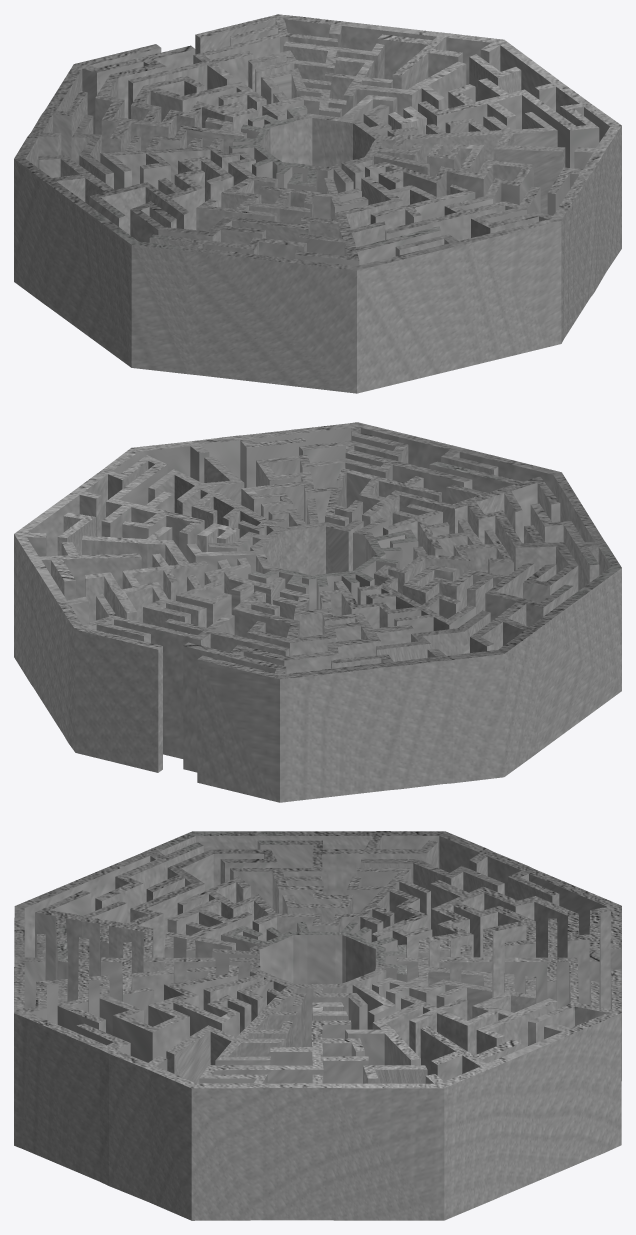
File: Labyrinth2.fbx
3 views of the same model, one above another, from view 1: azimuth 30°, elevation 25°; view 2: azimuth 150°, elevation 25°; view 3: azimuth 270°, elevation 25° (orthographic). The views are drawn at different scales.
Visible parts, largest first — view 1: Cube.002, Cube.001; view 2: Cube.002, Cube.001; view 3: Cube.002, Cube.001.
Part boxes in pixels (box(x1,y1,x2,y2)): Cube.002: box(14, 19, 621, 393); Cube.001: box(14, 14, 621, 270); Cube.002: box(14, 428, 621, 802); Cube.001: box(14, 422, 621, 679); Cube.002: box(14, 835, 621, 1220); Cube.001: box(14, 831, 621, 1088).
Bounding box in the file's own units: 380 × 91.29 × 379.
3 materials, 3 textured.
